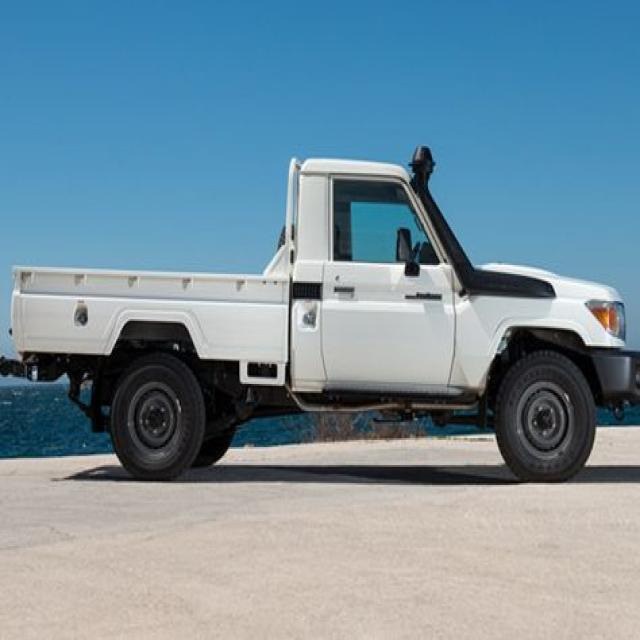light_vehicle: (9, 142, 638, 485)
